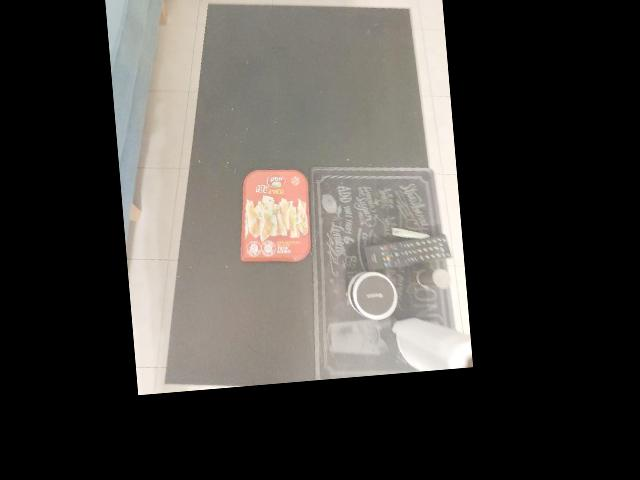cheese: (230, 169, 316, 265)
